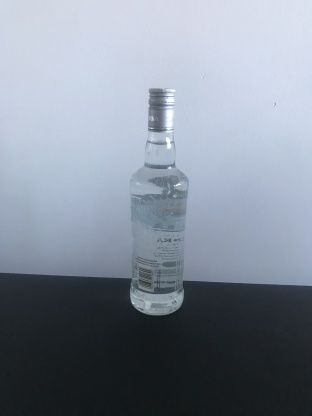nakretka: (146, 84, 176, 135)
